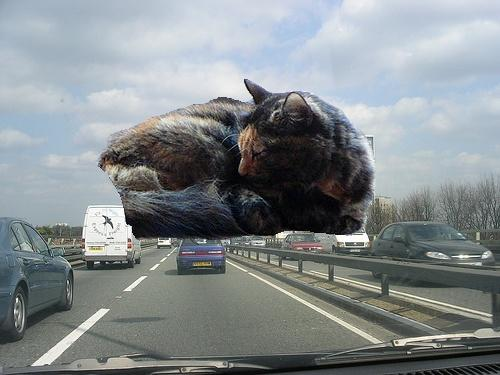tampered: (96, 80, 376, 240)
